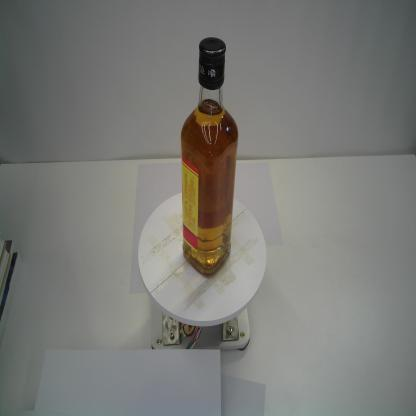Seasoner: (179, 35, 240, 280)
